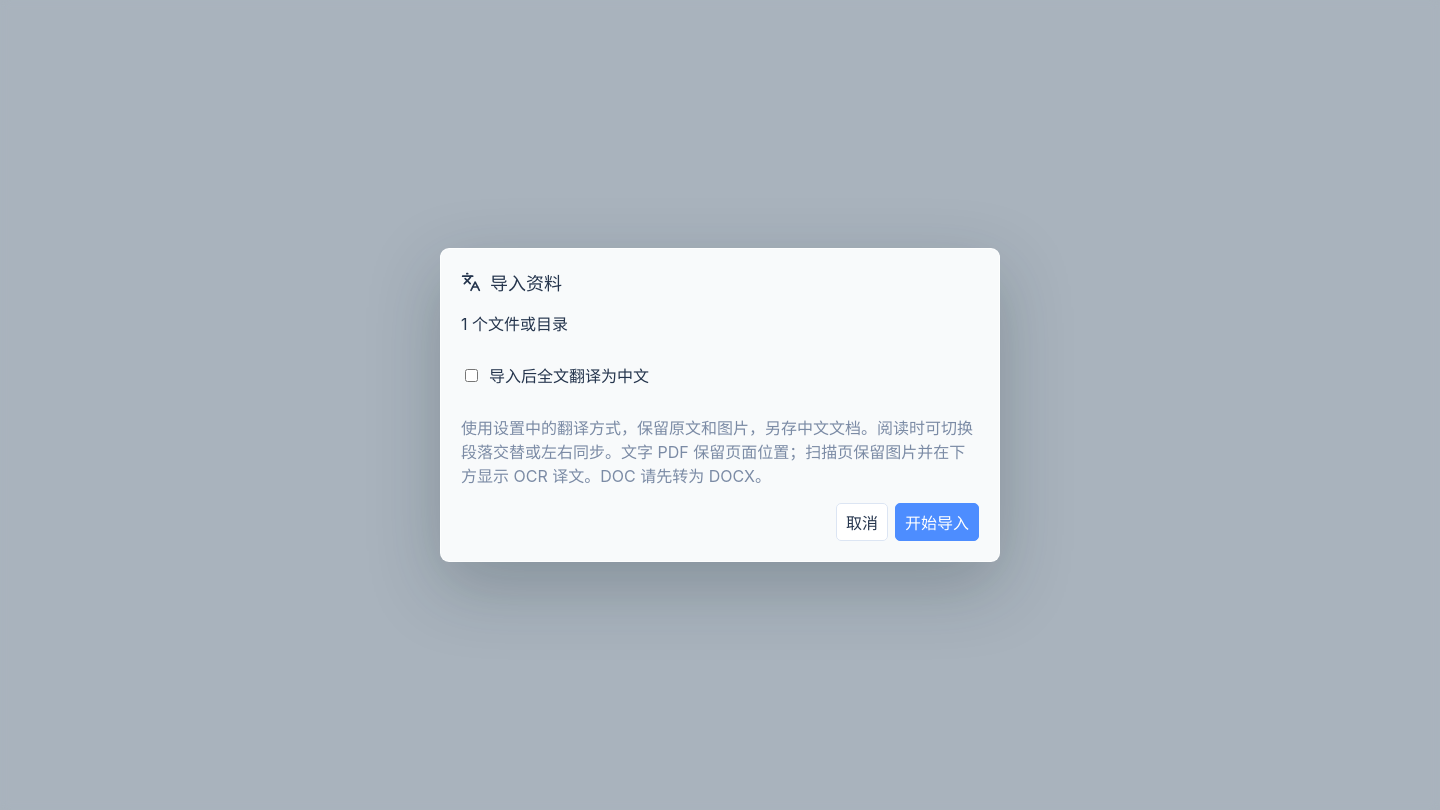
Test case: keeps originals and continues translating other documents when one fails
What coordinates should you click on to do the following:
click the checkbox
I would click on:
 (472, 375)
Its box is x1=465 y1=368 x2=478 y2=382.
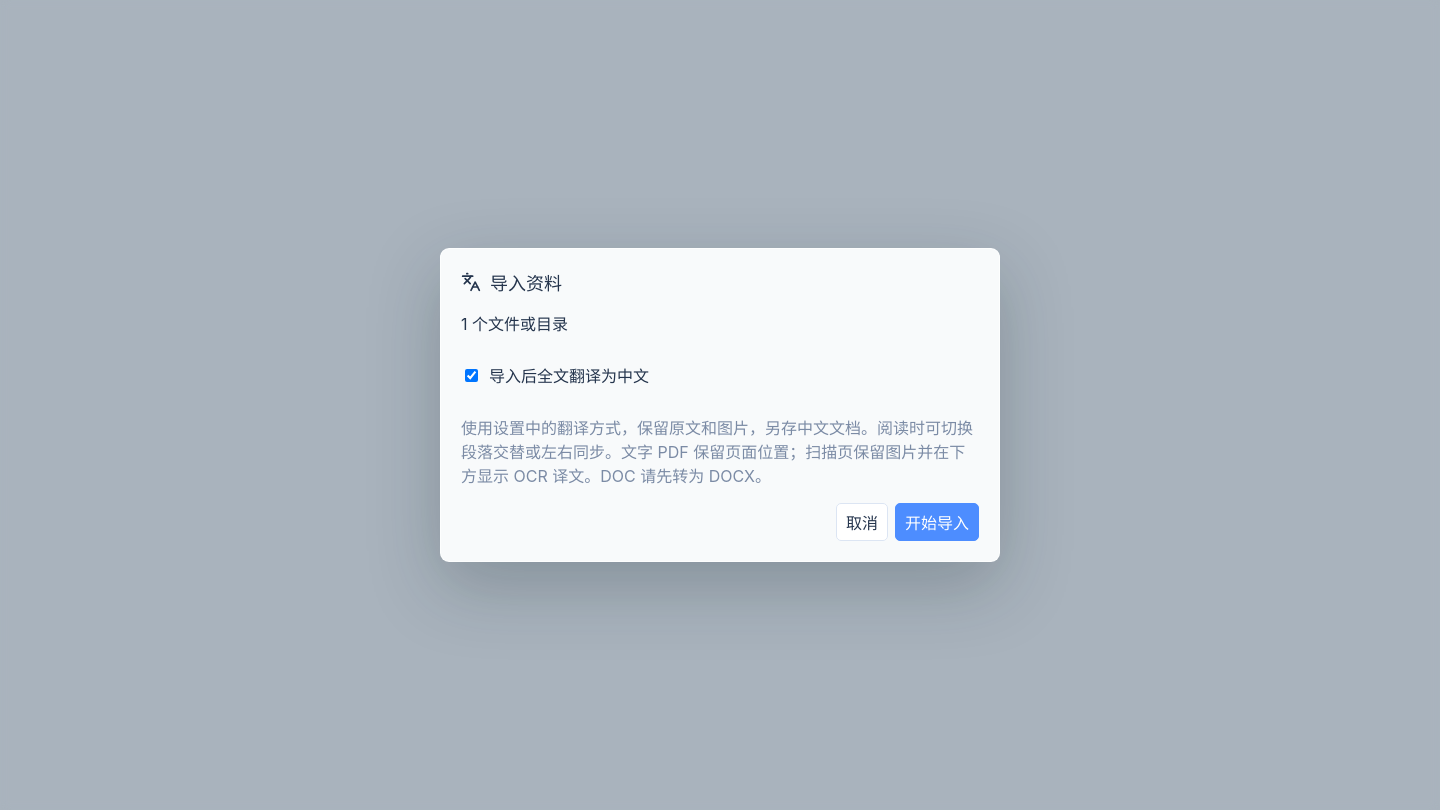
What coordinates should you click on to do the following:
click the button "开始导入"
I would click on:
 (937, 522)
Its box is x1=895 y1=503 x2=979 y2=541.
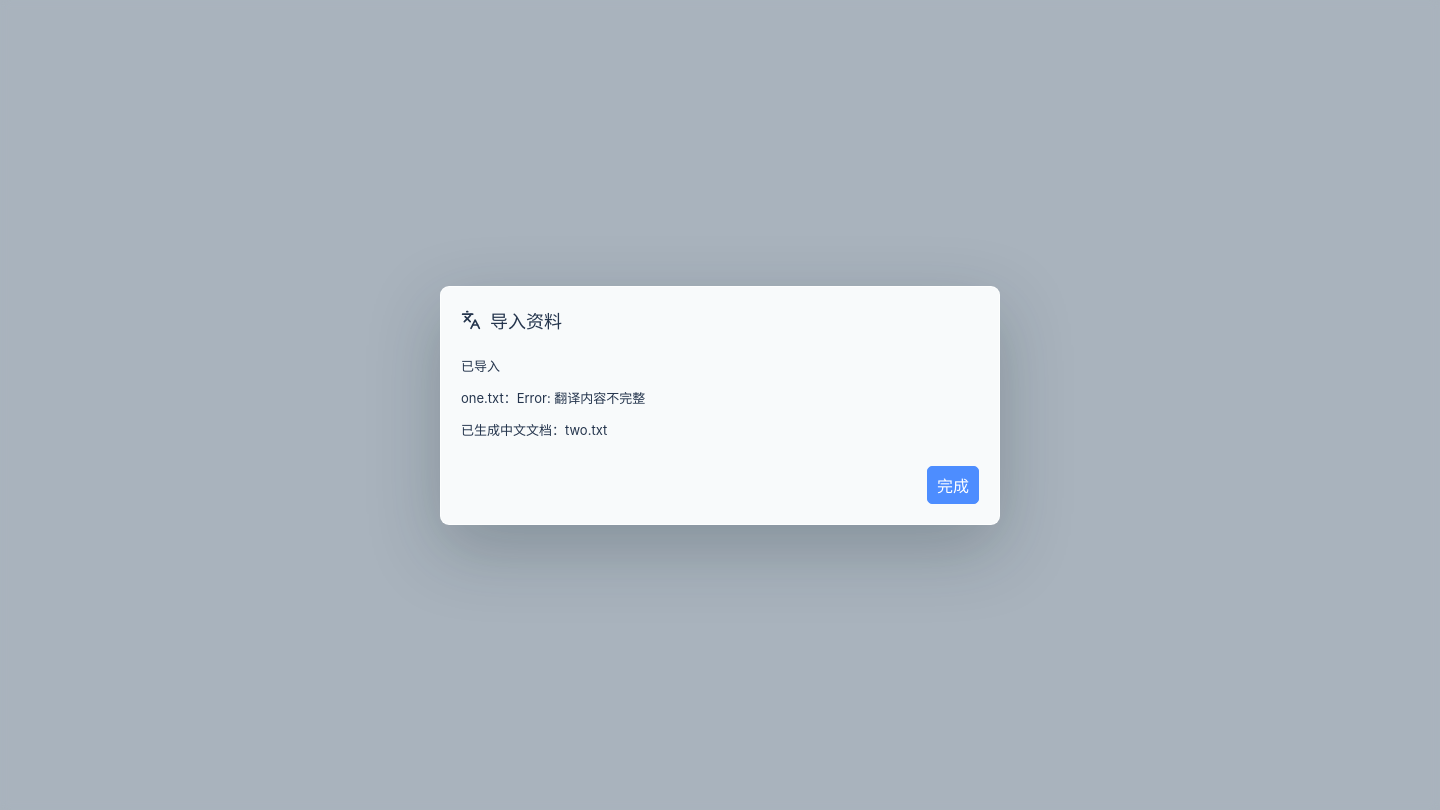
Expected: the text "one.txt：Error: 翻译内容不完整" is shown, x1=461 y1=390 x2=645 y2=406
Expected: the text "已生成中文文档：two.txt" is shown, x1=461 y1=422 x2=607 y2=438
